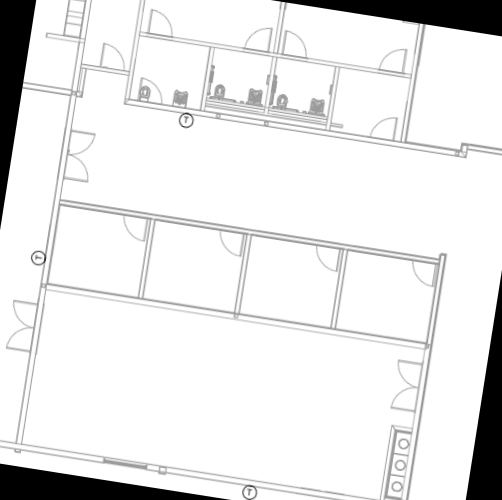door: (375, 42, 410, 79), (405, 256, 441, 291), (143, 7, 179, 42), (364, 112, 401, 145), (96, 40, 130, 75), (279, 28, 314, 62), (133, 75, 167, 109), (240, 22, 275, 55), (311, 241, 344, 275), (119, 213, 151, 247), (215, 228, 247, 261)
double door: (1, 295, 43, 358), (387, 357, 428, 416), (60, 126, 100, 185)
window: (95, 451, 154, 479)
